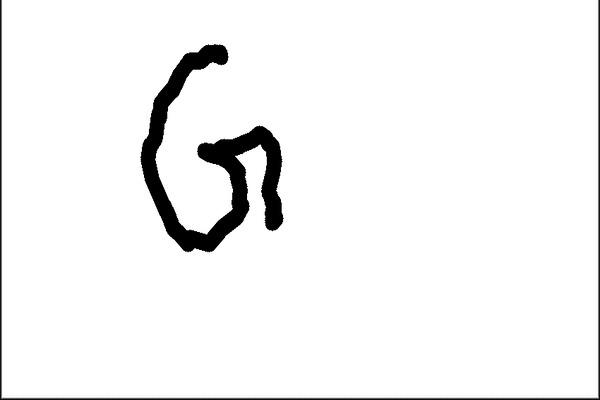G: (137, 40, 288, 256)
